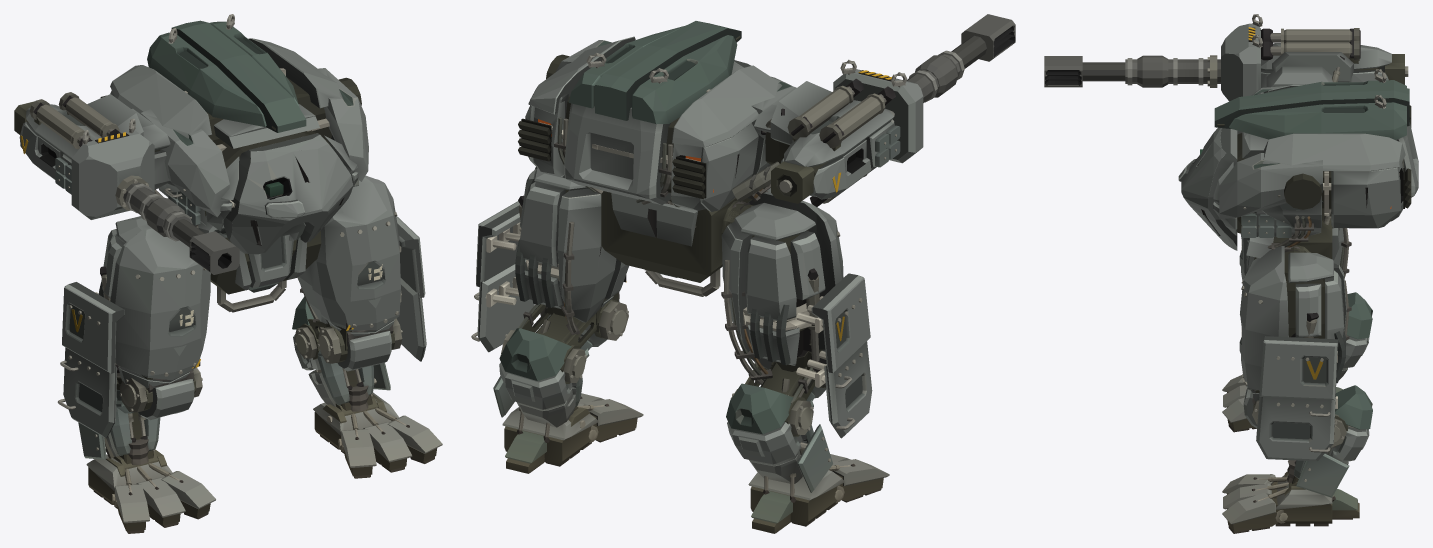
File: rampart-siege.glb
3 views of the same model, side by side, from view 1: azimuth 30°, elevation 25°; view 2: azimuth 150°, elevation 25°; view 3: azimuth 270°, elevation 25° (orthographic). The views are drawn at different scales.
Visible parts, largest first — view 1: Part_Torso, Part_Thigh_R, Part_Pod_R, Part_Thigh_L, Part_Foot_R, Part_Foot_L, Part_Pelvis, Part_Cannon_L, Part_Shin_L, Part_Shin_R, Part_Cannon_R; view 2: Part_Torso, Part_Thigh_R, Part_Pod_R, Part_Thigh_L, Part_Pelvis, Part_Cannon_R, Part_Cannon_L, Part_Foot_L, Part_Foot_R, Part_Shin_L, Part_Shin_R; view 3: Part_Torso, Part_Thigh_L, Part_Pod_R, Part_Foot_L, Part_Cannon_L, Part_Pelvis, Part_Cannon_R, Part_Foot_R, Part_Thigh_R.
Boxes of the visible parts, bbox=[...] form: Part_Torso: bbox=[100, 14, 368, 254]; Part_Thigh_R: bbox=[57, 216, 210, 438]; Part_Pod_R: bbox=[14, 92, 239, 274]; Part_Thigh_L: bbox=[297, 175, 426, 361]; Part_Foot_R: bbox=[86, 437, 215, 533]; Part_Foot_L: bbox=[313, 385, 442, 478]; Part_Pelvis: bbox=[198, 208, 343, 312]; Part_Cannon_L: bbox=[292, 296, 390, 410]; Part_Shin_L: bbox=[307, 318, 402, 371]; Part_Shin_R: bbox=[116, 367, 202, 420]; Part_Cannon_R: bbox=[78, 382, 160, 464]; Part_Torso: bbox=[518, 21, 795, 211]; Part_Thigh_R: bbox=[721, 192, 872, 438]; Part_Pod_R: bbox=[732, 14, 1015, 206]; Part_Thigh_L: bbox=[471, 166, 628, 352]; Part_Pelvis: bbox=[601, 188, 770, 296]; Part_Cannon_R: bbox=[726, 383, 832, 492]; Part_Cannon_L: bbox=[493, 328, 586, 427]; Part_Foot_L: bbox=[502, 393, 643, 473]; Part_Foot_R: bbox=[748, 441, 889, 533]; Part_Shin_L: bbox=[518, 292, 628, 358]; Part_Shin_R: bbox=[745, 358, 826, 407]; Part_Torso: bbox=[1178, 69, 1418, 250]; Part_Thigh_L: bbox=[1239, 246, 1351, 461]; Part_Pod_R: bbox=[1044, 14, 1408, 101]; Part_Foot_L: bbox=[1222, 460, 1359, 533]; Part_Cannon_L: bbox=[1292, 385, 1372, 497]; Part_Pelvis: bbox=[1246, 209, 1339, 271]; Part_Cannon_R: bbox=[1339, 292, 1372, 379]; Part_Foot_R: bbox=[1222, 375, 1342, 432]; Part_Thigh_R: bbox=[1239, 228, 1351, 280].
Bounding box in the file's own units: 4.32 × 4.64 × 4.11.
